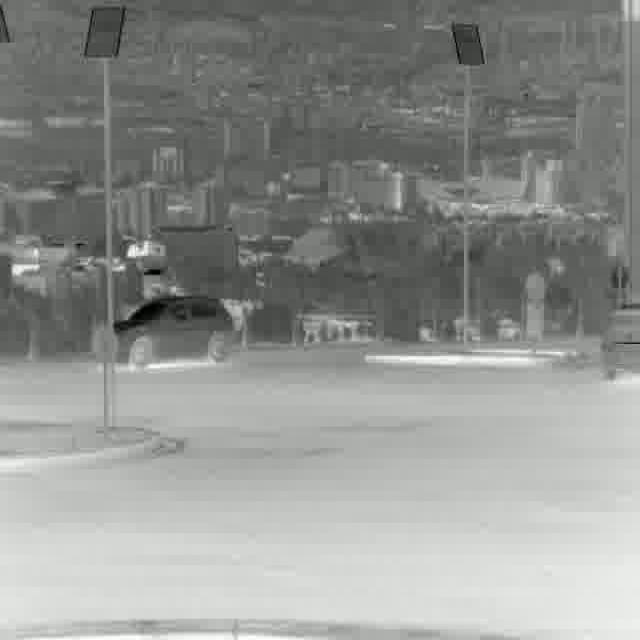Car: (104, 289, 235, 367), (598, 299, 640, 381)
